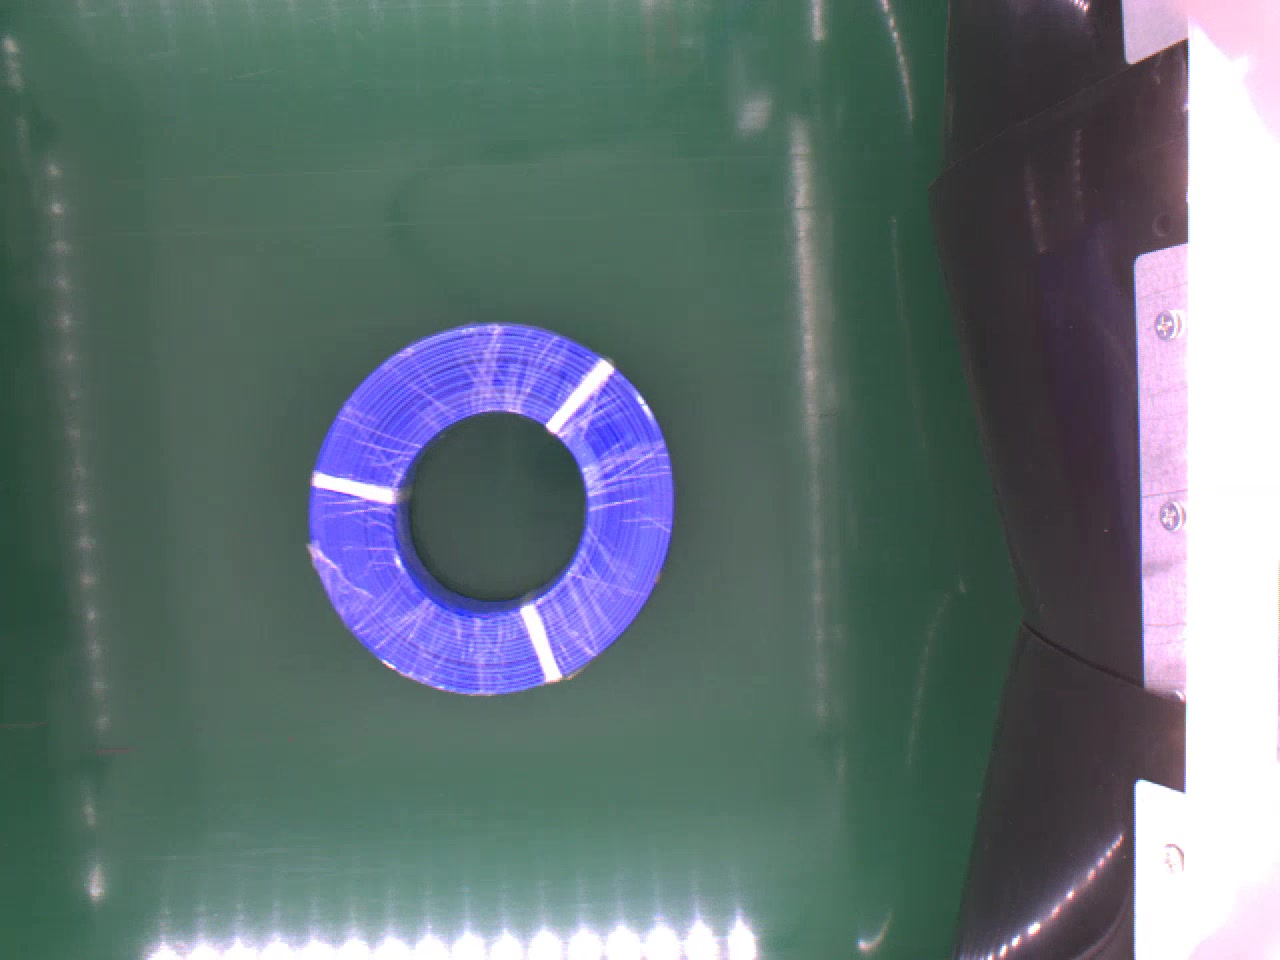blue: (300, 317, 690, 699)
